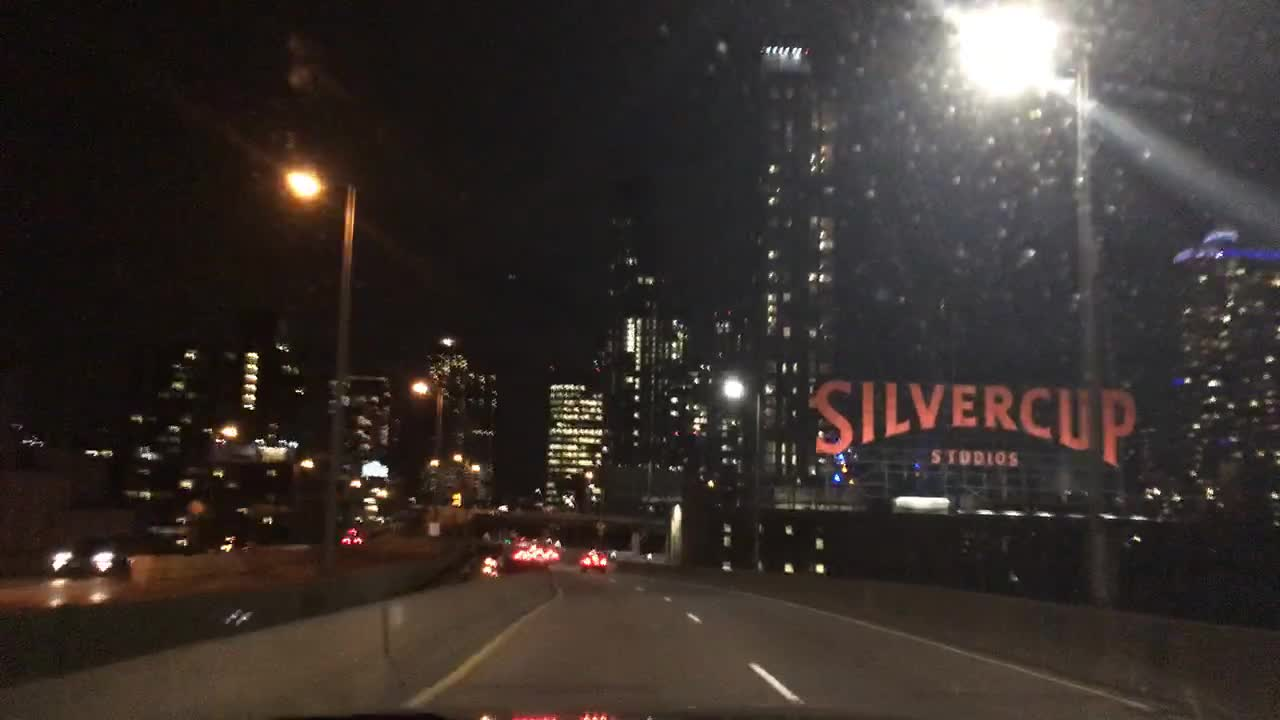car: (47, 526, 189, 577), (201, 604, 299, 636), (467, 550, 499, 575), (581, 549, 609, 575), (219, 536, 259, 554), (508, 538, 531, 565), (342, 526, 368, 548), (471, 497, 497, 516), (545, 537, 561, 560), (532, 542, 547, 563)
traffic sign: (186, 500, 205, 515), (593, 517, 608, 532), (427, 521, 440, 536), (451, 492, 463, 508)
